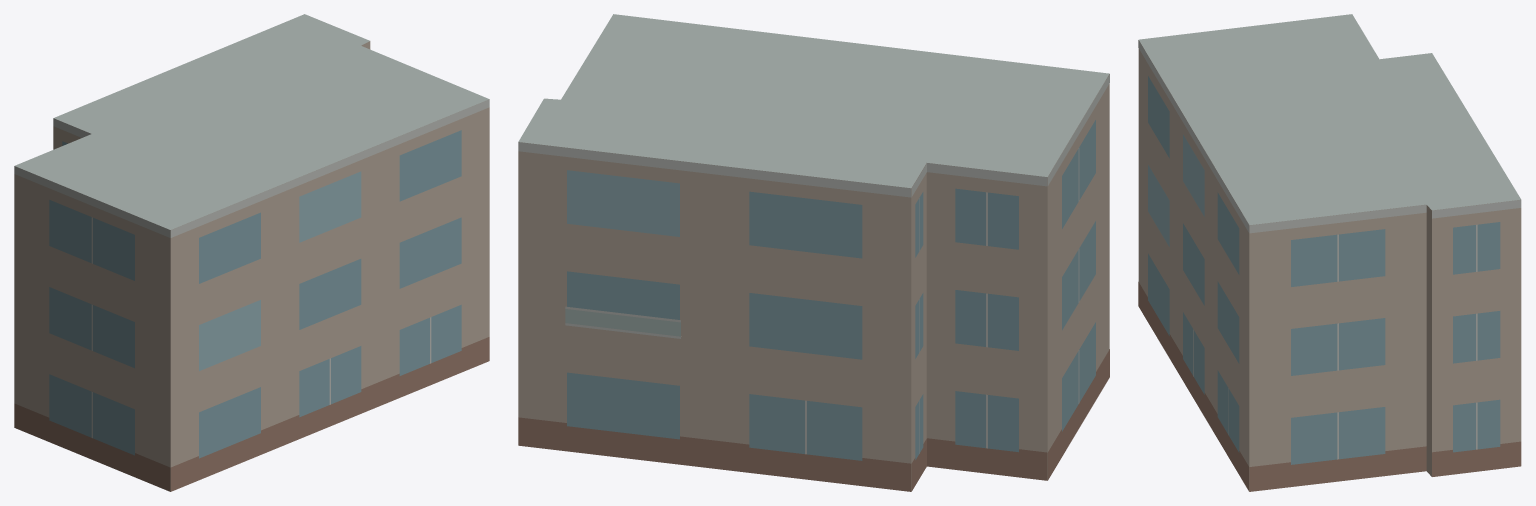
Rendered from survey-upis-32905925.glb.
3 renders of one model, left to right at view 1: azimuth 30°, elevation 25°; view 2: azimuth 150°, elevation 25°; view 3: azimuth 270°, elevation 25°, orthographic. The views are drawn at different scales.
Visible parts, largest first — view 1: survey-upis-32905925.tmp; view 2: survey-upis-32905925.tmp; view 3: survey-upis-32905925.tmp.
Boxes of the visible parts, left/top/right/bottom form: survey-upis-32905925.tmp: left=14, top=14, right=489, bottom=491; survey-upis-32905925.tmp: left=518, top=14, right=1109, bottom=491; survey-upis-32905925.tmp: left=1138, top=14, right=1521, bottom=491.
Size of the model in its own units: 13.52 by 7.95 by 10.36.
